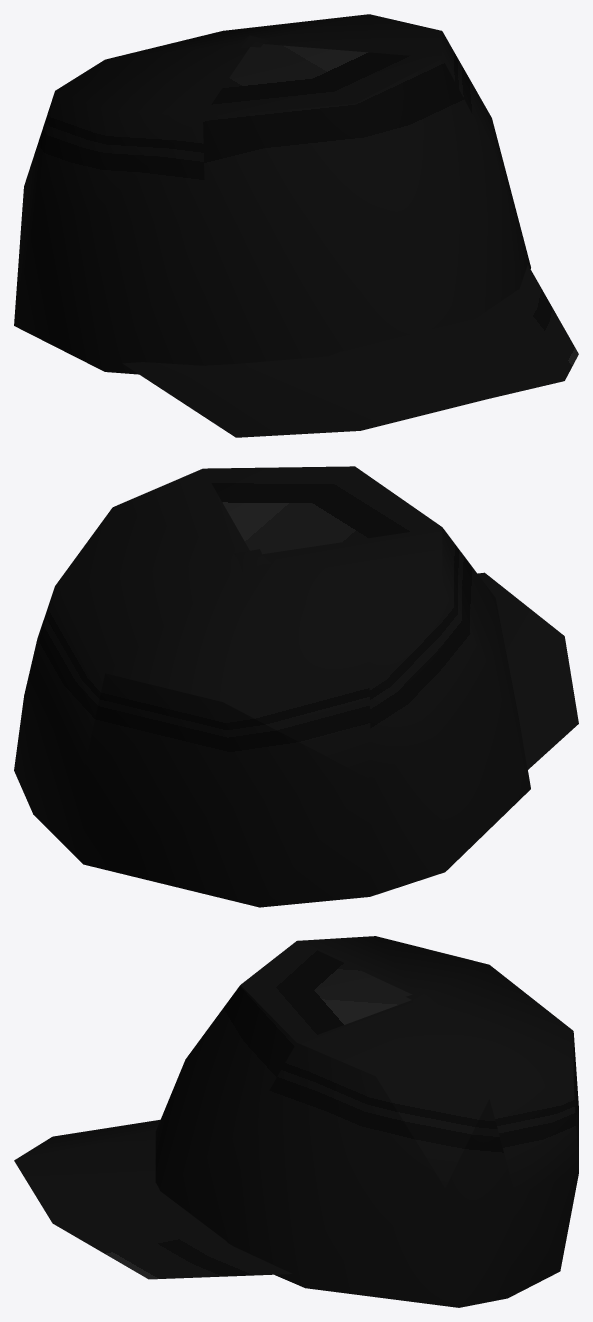
3 renders of one model, top to bottom at view 1: azimuth 30°, elevation 25°; view 2: azimuth 150°, elevation 25°; view 3: azimuth 270°, elevation 25°, orthographic. The views are drawn at different scales.
Visible parts, largest first — view 1: code_head112; view 2: code_head112; view 3: code_head112.
Part boxes in pixels (x1=…): code_head112: x1=14, y1=14, x2=578, y2=437; code_head112: x1=14, y1=466, x2=578, y2=907; code_head112: x1=14, y1=936, x2=578, y2=1307.
Size of the model in its own units: 0.6211 by 0.3926 by 0.8076.
1 material, 1 textured.
